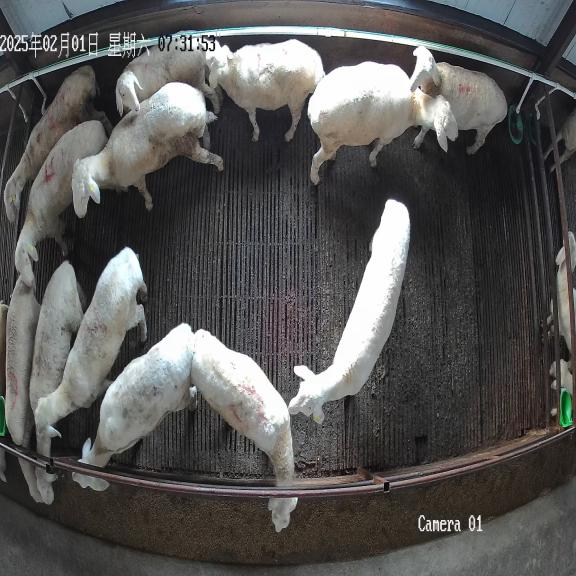eating: (191, 329, 297, 532), (29, 260, 83, 504), (5, 275, 44, 502)
stand: (288, 200, 410, 424), (35, 247, 147, 438), (72, 323, 197, 491), (72, 82, 223, 218), (308, 62, 458, 184), (4, 66, 112, 222), (14, 120, 108, 286), (206, 40, 325, 141), (410, 46, 507, 154), (116, 35, 223, 116)
